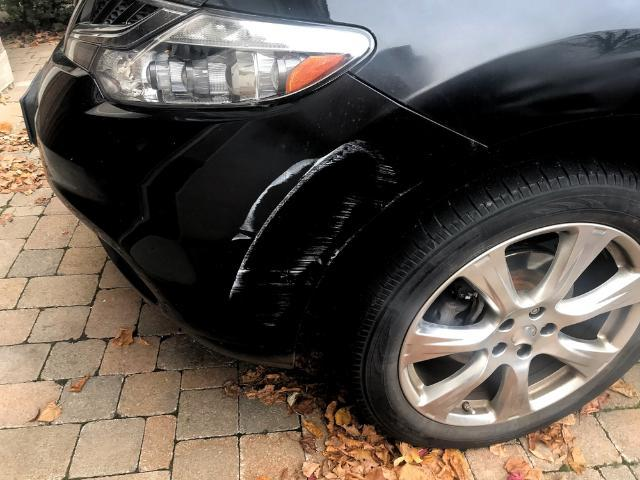scratch: (232, 139, 413, 330)
